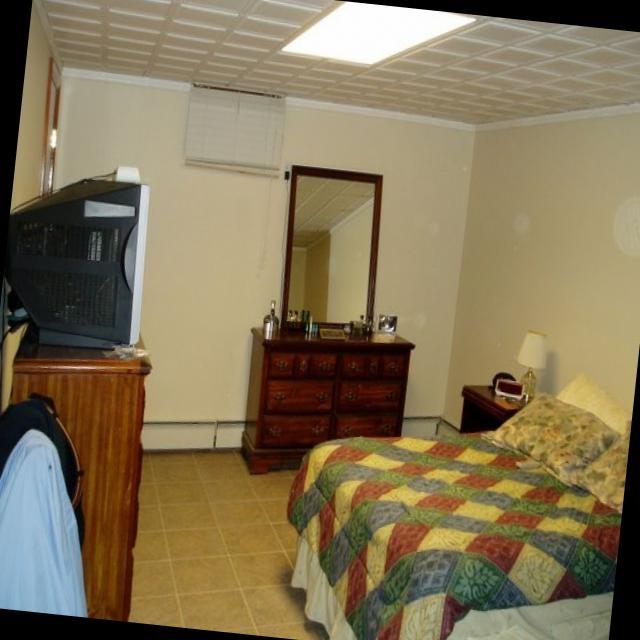air conditioning: (184, 81, 286, 173)
bed -occluded-: (285, 374, 629, 640)
ceiling beam: (43, 0, 640, 124)
chest of drawers occluded: (237, 325, 411, 471)
clock: (494, 379, 526, 398)
drawer handle: (334, 376, 406, 412), (264, 378, 334, 412), (308, 351, 338, 379)
lamp crop: (517, 331, 545, 395)
light fixture: (277, 0, 478, 66)
mirror crop: (280, 165, 382, 329)
pillow occluded: (493, 389, 621, 485)
television cabinet: (3, 166, 147, 349)
wall clock: (20, 72, 474, 448)
